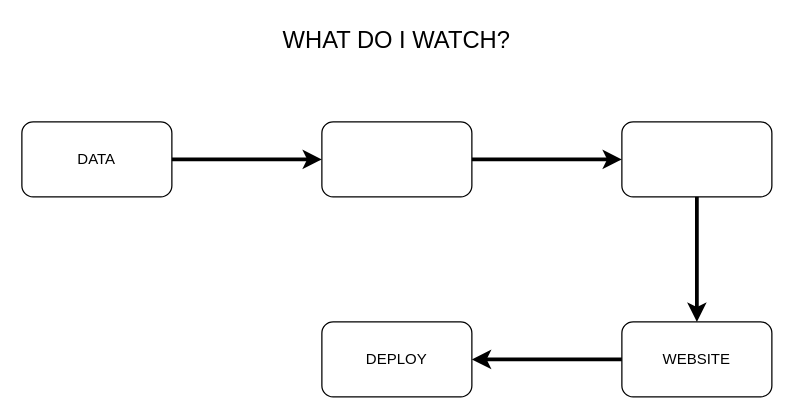
Some shapes in this 794 by 419 pixel diagram are drawn without their labels. The shapes that lost their labels are listed below. From the top down, each one's box as (x1, y1, x2, y2) in pixels, then its label:
(321, 121, 472, 197): PREPROCESSING
(621, 121, 772, 197): MODEL
